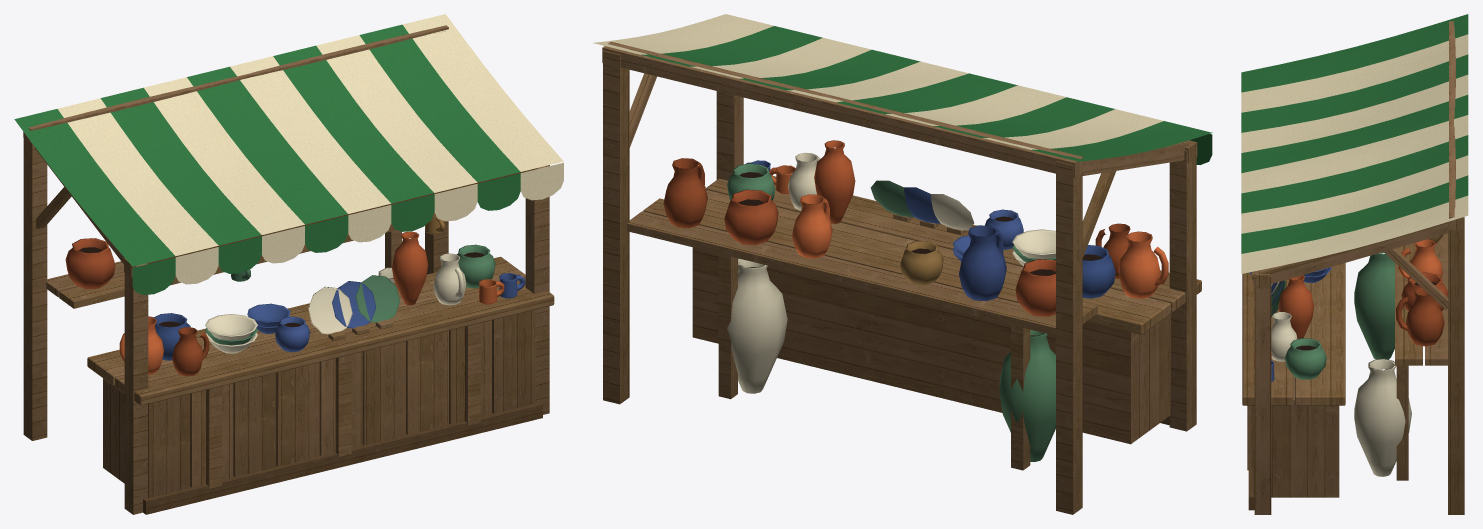
Rendered from market_stall_pottery.glb.
The picture shows the model from 3 angles, left to right: view 1: azimuth 30°, elevation 25°; view 2: azimuth 150°, elevation 25°; view 3: azimuth 270°, elevation 25°; orthographic projection. The views are drawn at different scales.
Visible parts, largest first — view 1: prop; view 2: prop; view 3: prop.
Boxes of the visible parts, left/top/right/bottom form: prop: left=14, top=14, right=563, bottom=514; prop: left=593, top=14, right=1212, bottom=514; prop: left=1241, top=14, right=1468, bottom=514.
Size of what is drawn, in the model's own units: 2 by 1.4 by 0.9515.
4 materials, 3 textured.
